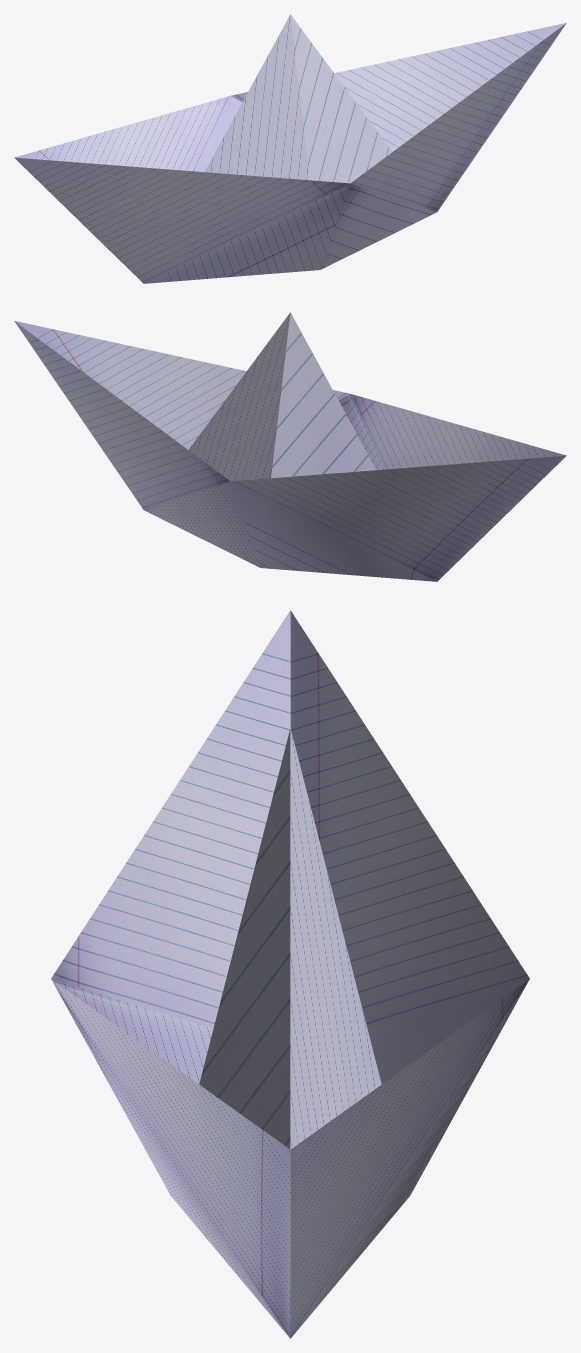
Rendered from paper_boat.glb.
The picture shows the model from 3 angles, top to bottom: view 1: azimuth 30°, elevation 25°; view 2: azimuth 150°, elevation 25°; view 3: azimuth 270°, elevation 25°; orthographic projection. The views are drawn at different scales.
Visible parts, largest first — view 1: origami_boat; view 2: origami_boat; view 3: origami_boat.
Part boxes in pixels (<box>): origami_boat: <box>14,14,566,283</box>; origami_boat: <box>14,312,566,581</box>; origami_boat: <box>51,610,529,1338</box>.
Size of the model in its own units: 0.1167 by 0.0472 by 0.0438.
Materials: 1 (1 with a texture image).
